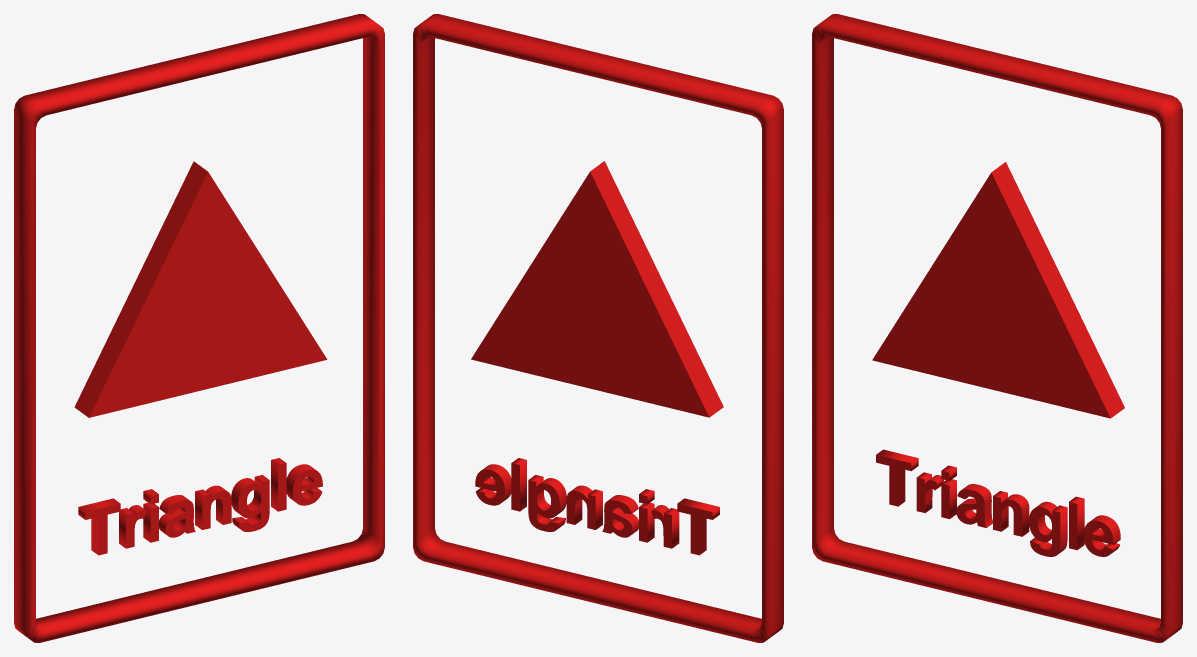
Rendered from shapeTriangle2.glb.
3 renders of one model, left to right at view 1: azimuth 30°, elevation 25°; view 2: azimuth 150°, elevation 25°; view 3: azimuth 330°, elevation 25°, orthographic.
Parts seen in each view (by area): view 1: Shape; view 2: Shape; view 3: Shape.
Boxes of the visible parts, box(x1,y1,x2,y2) form: Shape: box(14, 14, 384, 642); Shape: box(413, 14, 783, 642); Shape: box(812, 14, 1182, 642).
Bounding box in the file's own units: 0.9357 × 1.35 × 0.068.
